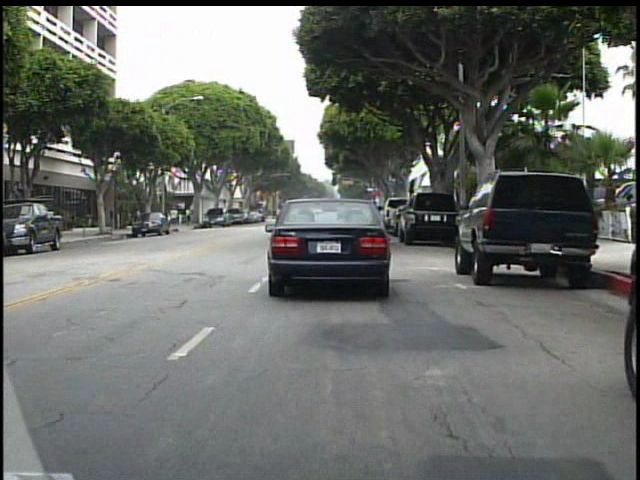person: (184, 202, 196, 228), (172, 205, 180, 225)
